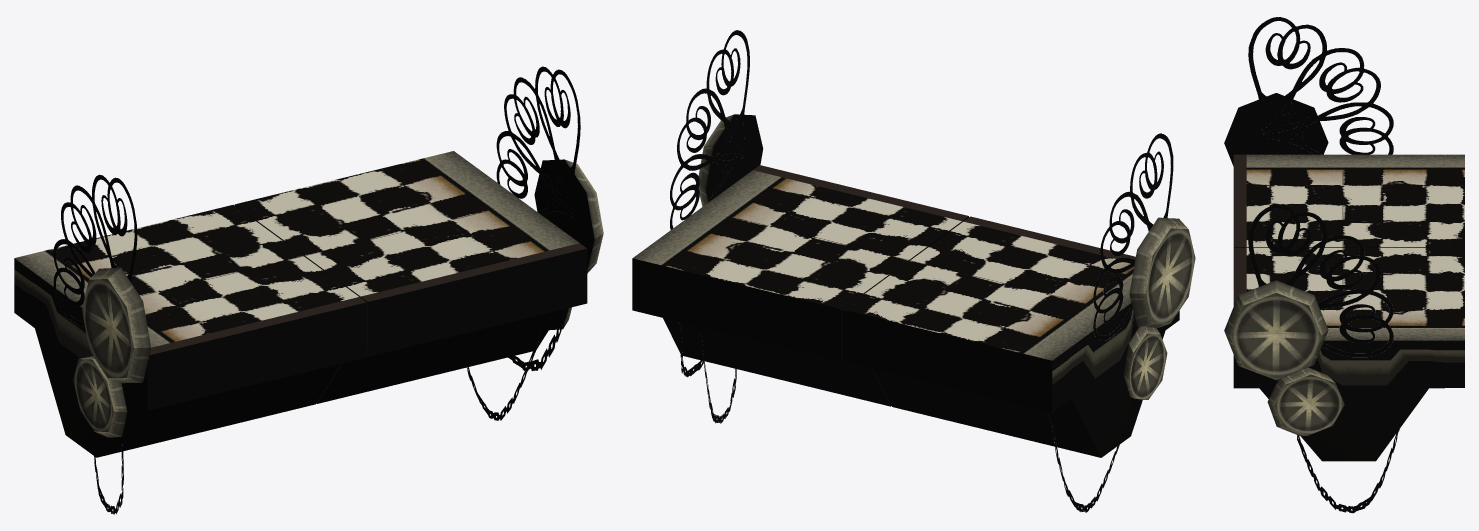
File: Hallway.fbx
The picture shows the model from 3 angles, left to right: view 1: azimuth 30°, elevation 25°; view 2: azimuth 150°, elevation 25°; view 3: azimuth 270°, elevation 25°; orthographic projection. The views are drawn at different scales.
Parts seen in each view (by area): view 1: HallWay; view 2: HallWay; view 3: HallWay.
Boxes of the visible parts, x1,y1,x2,y2 form: HallWay: (14,66,603,514); HallWay: (632,30,1195,512); HallWay: (1224,17,1464,513).
Bounding box in the file's own units: 201 × 155 × 103.
